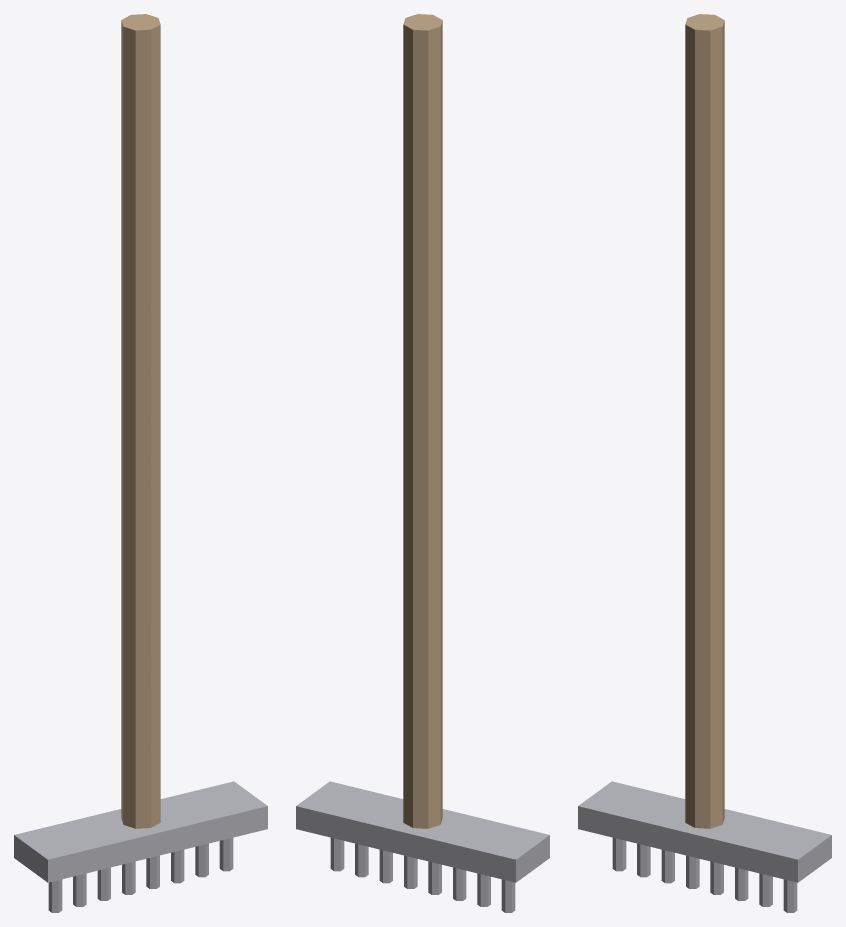
The model's file is rake.glb.
The picture shows the model from 3 angles, left to right: view 1: azimuth 30°, elevation 25°; view 2: azimuth 150°, elevation 25°; view 3: azimuth 330°, elevation 25°; orthographic projection.
Visible parts, largest first — view 1: Rake; view 2: Rake; view 3: Rake.
Boxes of the visible parts, x1,y1,x2,y2 form: Rake: (14,14,267,912); Rake: (296,14,549,912); Rake: (578,14,831,912).
Bounding box in the file's own units: 0.15 × 0.565 × 0.04.
